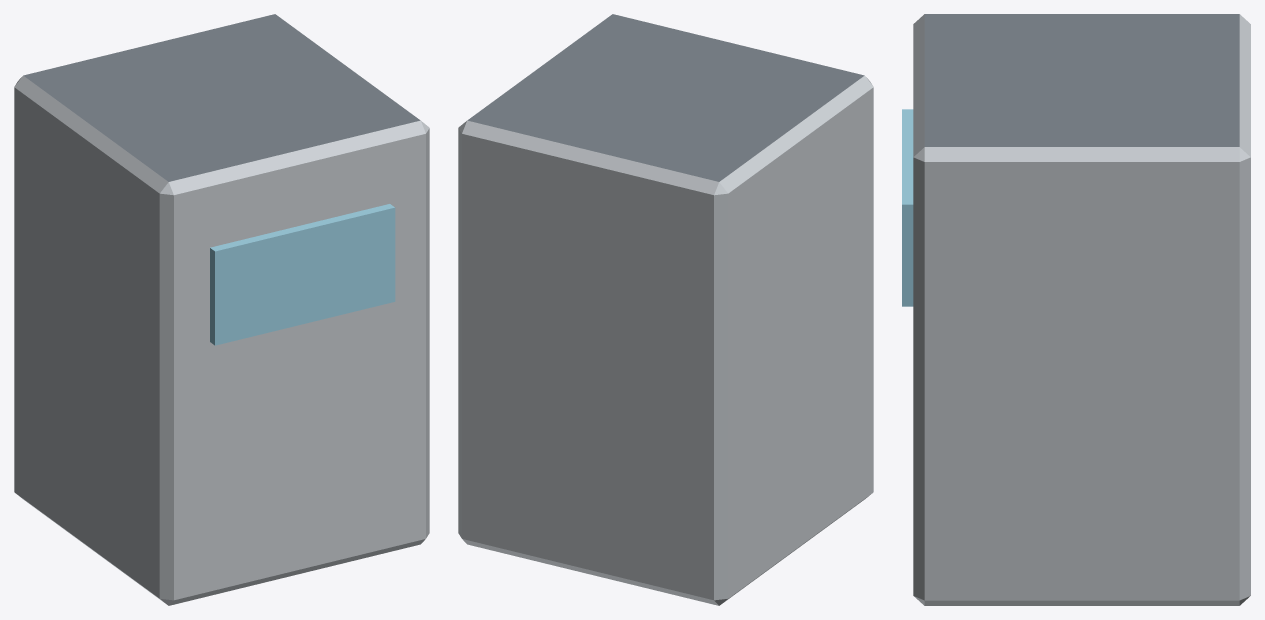
Rendered from ice_maker.fbx.
3 renders of one model, left to right at view 1: azimuth 30°, elevation 25°; view 2: azimuth 150°, elevation 25°; view 3: azimuth 270°, elevation 25°, orthographic. The views are drawn at different scales.
Parts seen in each view (by area): view 1: ice_maker; view 2: ice_maker; view 3: ice_maker.
Part boxes in pixels (x1,y1,x2,y2): ice_maker: (14,14,429,605); ice_maker: (458,14,873,605); ice_maker: (902,14,1250,605).
Bounding box in the file's own units: 0.6 × 0.9 × 0.62.
